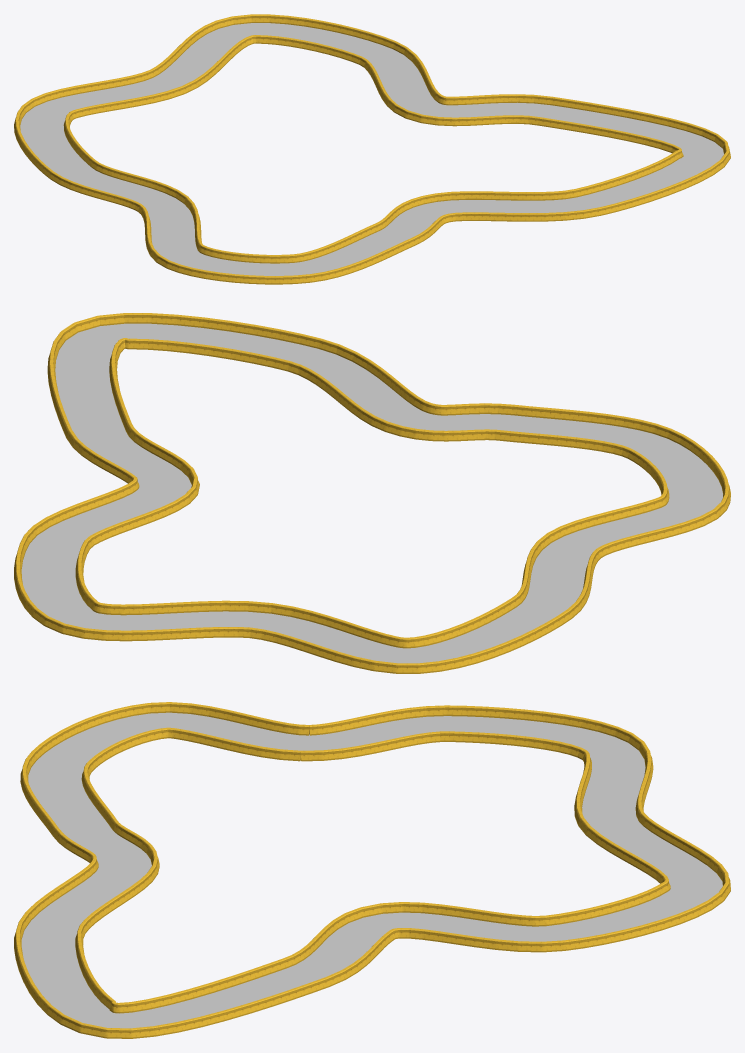
Rendered from Track01.fbx.
3 views of the same model, one above another, from view 1: azimuth 30°, elevation 25°; view 2: azimuth 150°, elevation 25°; view 3: azimuth 270°, elevation 25° (orthographic). The views are drawn at different scales.
Visible parts, largest first — view 1: Track1, Barrier1; view 2: Track1, Barrier1; view 3: Track1, Barrier1.
Part boxes in pixels (x1,y1,x2,y2): Track1: (20,23,723,275); Barrier1: (14,14,730,284); Track1: (21,323,722,663); Barrier1: (14,313,730,673); Track1: (21,712,722,1028); Barrier1: (14,702,730,1038).
Size of the model in its own units: 50732 by 46643 by 604.
